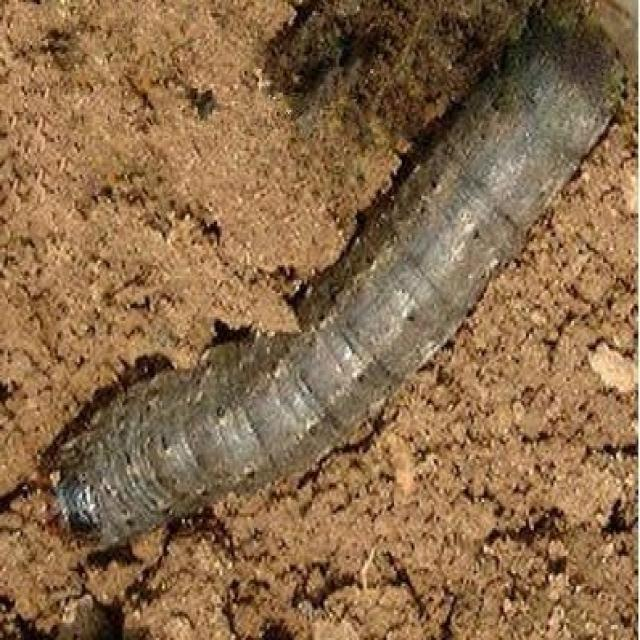black cutworm: (12, 23, 624, 561)
